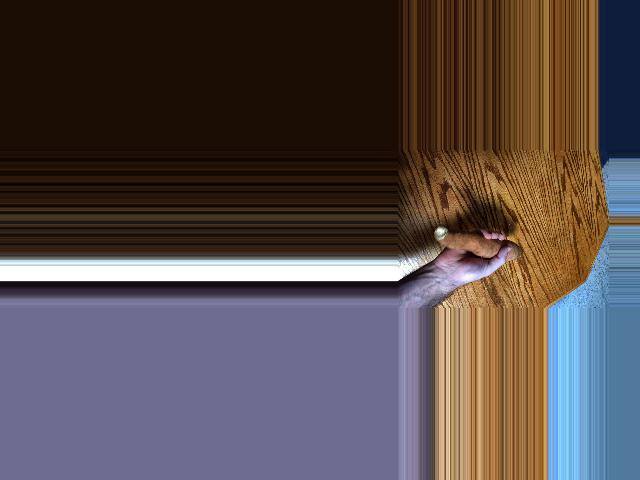sweet_potato: (426, 230, 513, 265)
